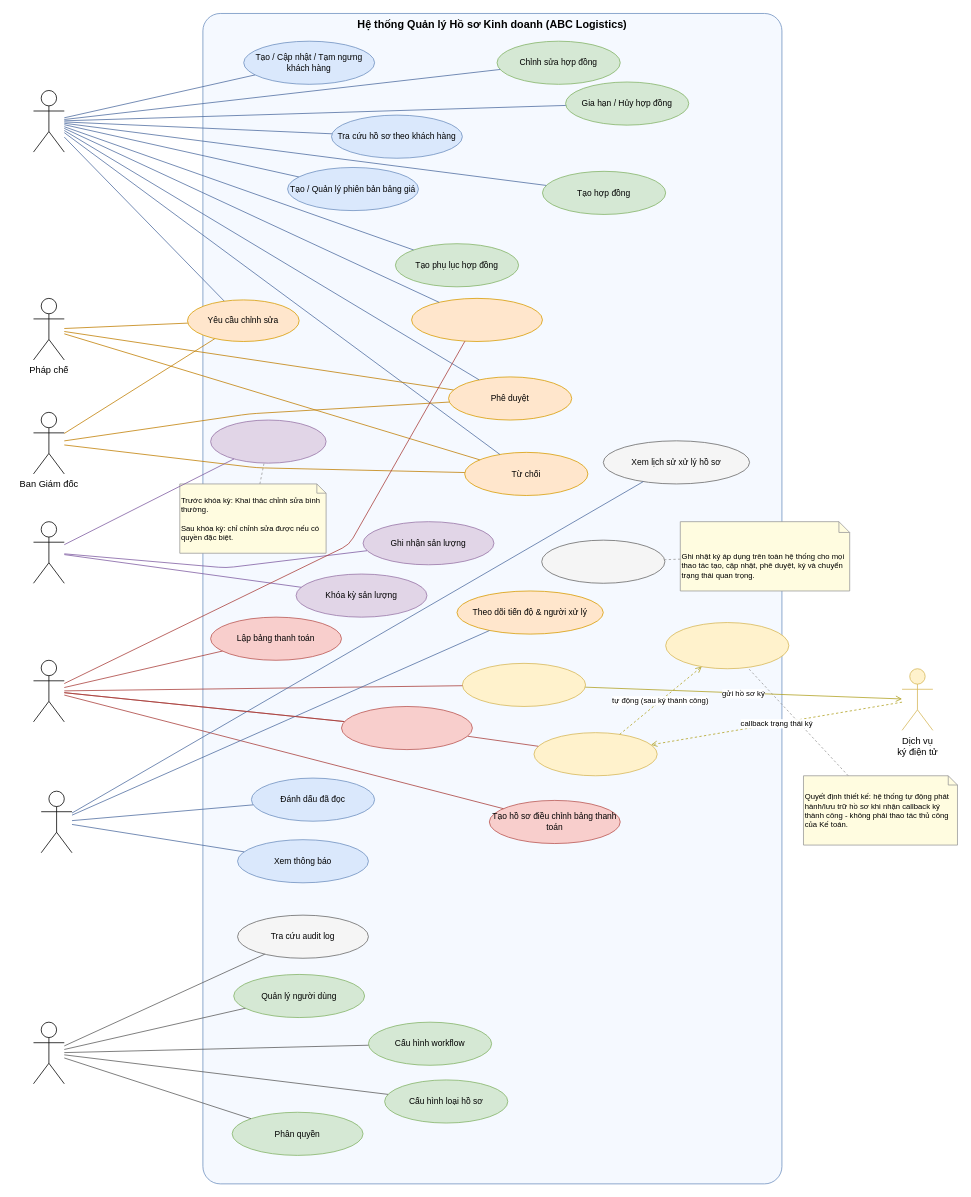
Some shapes in this 971 by 1197 pixel diagram are drawn without their labels. Each missing label, with the centre of its shape:
Ghi nhật ký & truy vết: point 603,561
Gửi ký điện tử: point 524,684
Gửi trình duyệt: point 476,319
Khai thác: point 48,552
Kinh doanh: point 48,121
Kế toán: point 48,691
Người dùng nội bộ (mọi phòng ban): point 56,821
Phát hành / Lưu trữ hồ sơ đã ký: point 727,645
Quản trị hệ thống: point 48,1052
Theo dõi trạng thái ký: point 595,754
Điều chỉnh sản lượng: point 268,441
Đối soát bảng thanh toán: point 406,728
